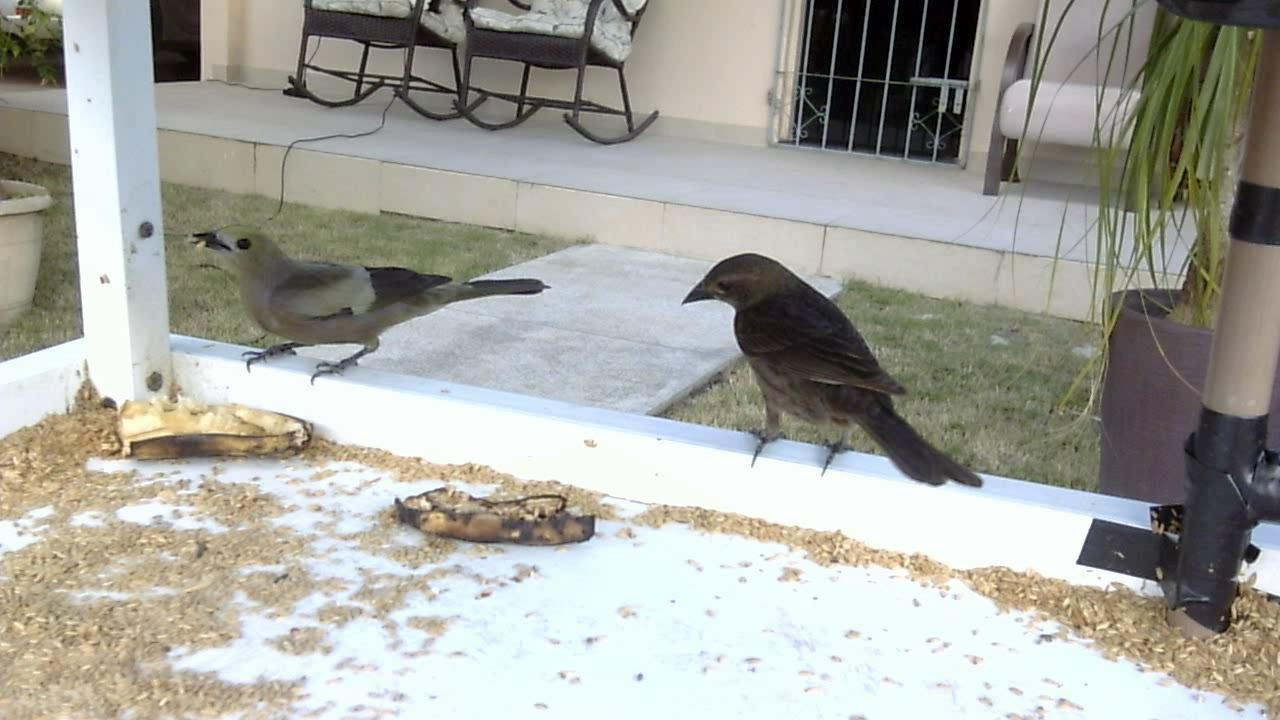chupim: (673, 248, 989, 497)
sanhaco_do_coqueiro: (182, 222, 551, 390)
